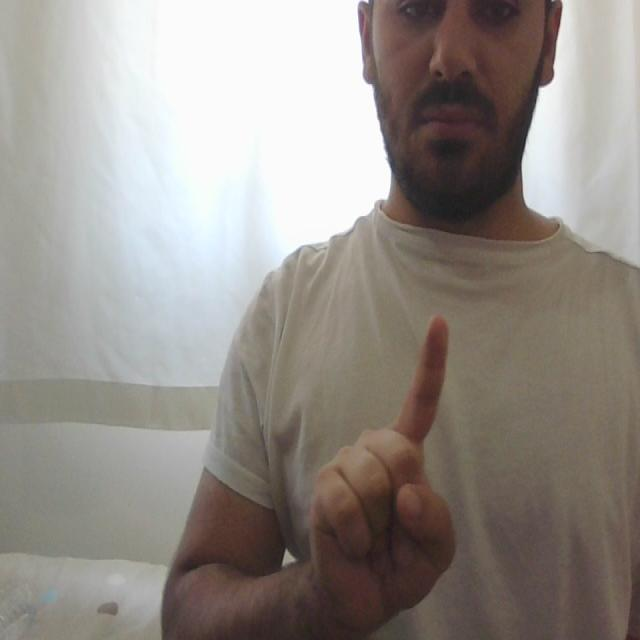Hayir: (303, 278, 473, 630)
